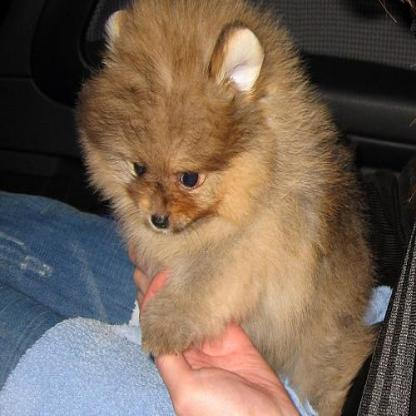Pomeranian: (76, 0, 381, 413)
